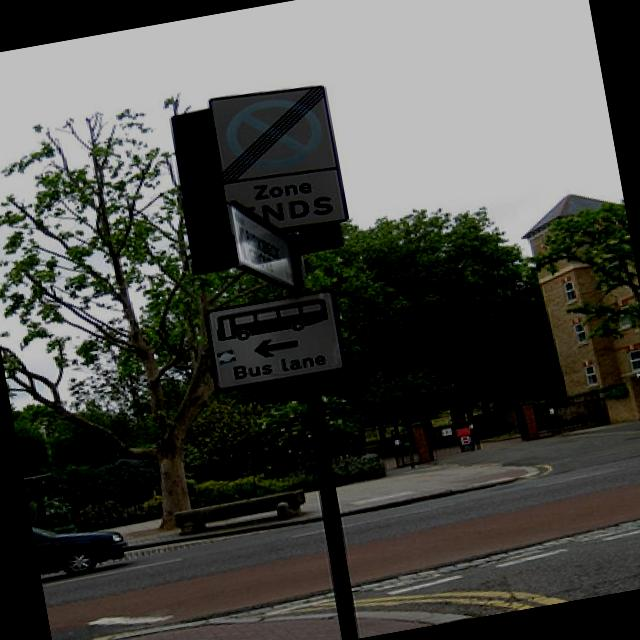Vehicle: (31, 505, 130, 583)
